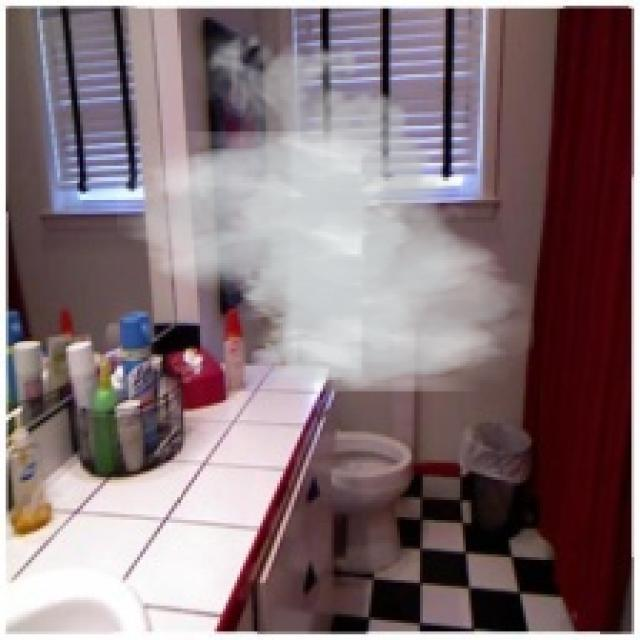Smoke: (117, 22, 534, 392)
